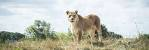lion: (63, 10, 107, 42)
